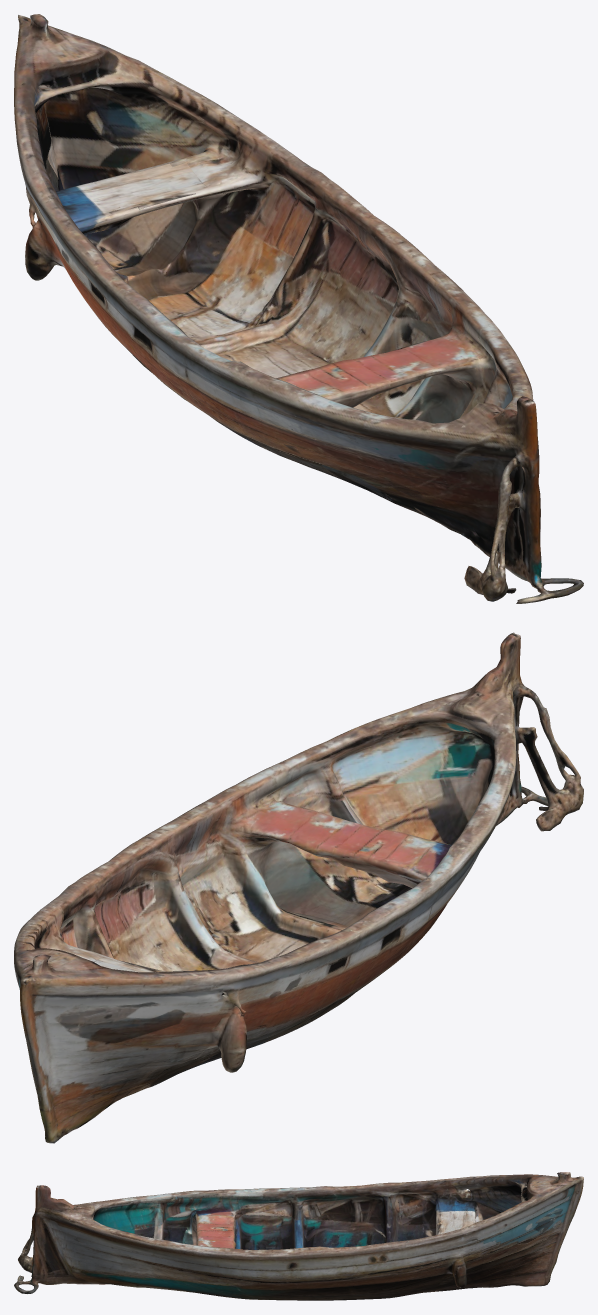
Rendered from Canoe.fbx.
3 renders of one model, top to bottom at view 1: azimuth 30°, elevation 25°; view 2: azimuth 150°, elevation 25°; view 3: azimuth 270°, elevation 25°, orthographic. The views are drawn at different scales.
Visible parts, largest first — view 1: Mesh_0; view 2: Mesh_0; view 3: Mesh_0.
Boxes of the visible parts, bbox=[...] form: Mesh_0: bbox=[14, 14, 583, 603]; Mesh_0: bbox=[14, 632, 583, 1143]; Mesh_0: bbox=[14, 1172, 583, 1300].
Bounding box in the file's own units: 58.87 × 43.67 × 200.
1 material, 1 textured.
